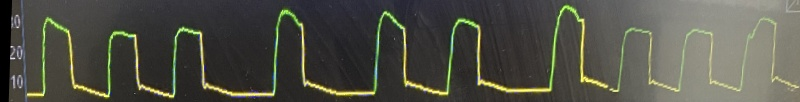normal_pressure: (25, 1, 775, 102)
